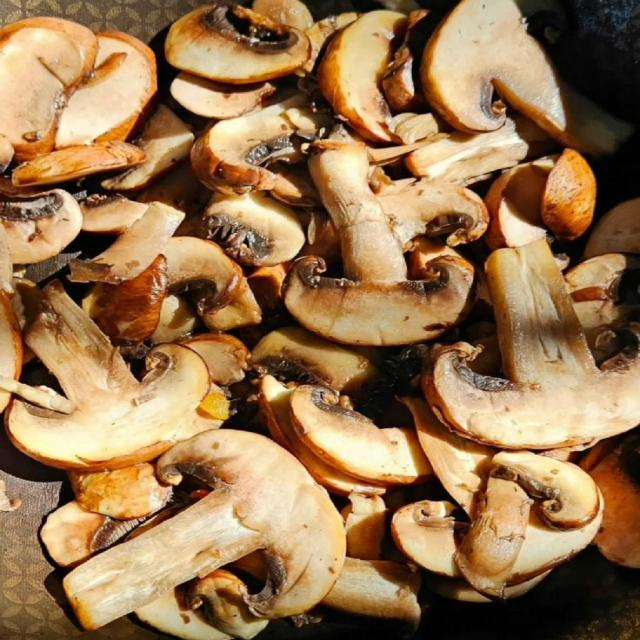champignon mushrooms: (64, 430, 346, 629), (424, 240, 639, 449), (285, 140, 474, 345), (6, 282, 209, 470), (421, 0, 633, 154), (393, 478, 603, 597), (259, 375, 385, 495), (290, 386, 433, 484), (0, 18, 98, 160), (192, 95, 331, 194), (56, 31, 157, 148), (166, 4, 311, 84), (318, 11, 406, 142), (486, 149, 595, 249), (402, 398, 495, 515), (406, 117, 549, 185), (454, 476, 533, 598), (69, 203, 184, 284), (163, 237, 260, 331), (492, 451, 600, 530), (252, 327, 377, 395), (565, 254, 639, 362), (102, 105, 194, 191), (204, 192, 305, 266), (82, 256, 167, 343), (378, 180, 488, 246), (322, 557, 420, 630), (323, 558, 420, 630), (589, 435, 639, 568), (40, 501, 139, 566), (484, 158, 553, 250), (0, 190, 82, 264), (13, 142, 145, 186), (69, 463, 172, 519), (392, 501, 467, 577), (187, 570, 268, 639), (381, 9, 433, 112), (138, 163, 211, 235), (135, 586, 231, 639), (541, 149, 596, 239), (171, 72, 276, 119), (181, 334, 251, 386), (301, 12, 358, 73), (584, 199, 639, 258), (342, 493, 387, 559), (0, 376, 76, 413), (80, 195, 147, 233), (407, 236, 462, 280), (270, 162, 320, 209), (152, 294, 199, 344), (247, 263, 290, 315), (300, 210, 340, 265), (423, 574, 494, 603), (0, 290, 22, 379), (253, 0, 313, 31), (393, 113, 446, 145), (0, 480, 22, 512), (0, 134, 14, 173)
